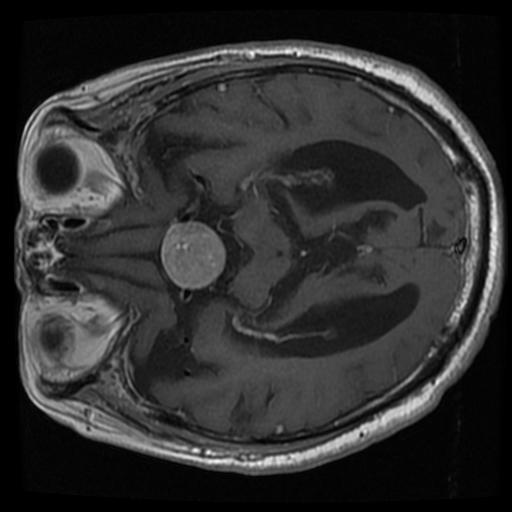pituitary tumour: (160, 222, 227, 289)
